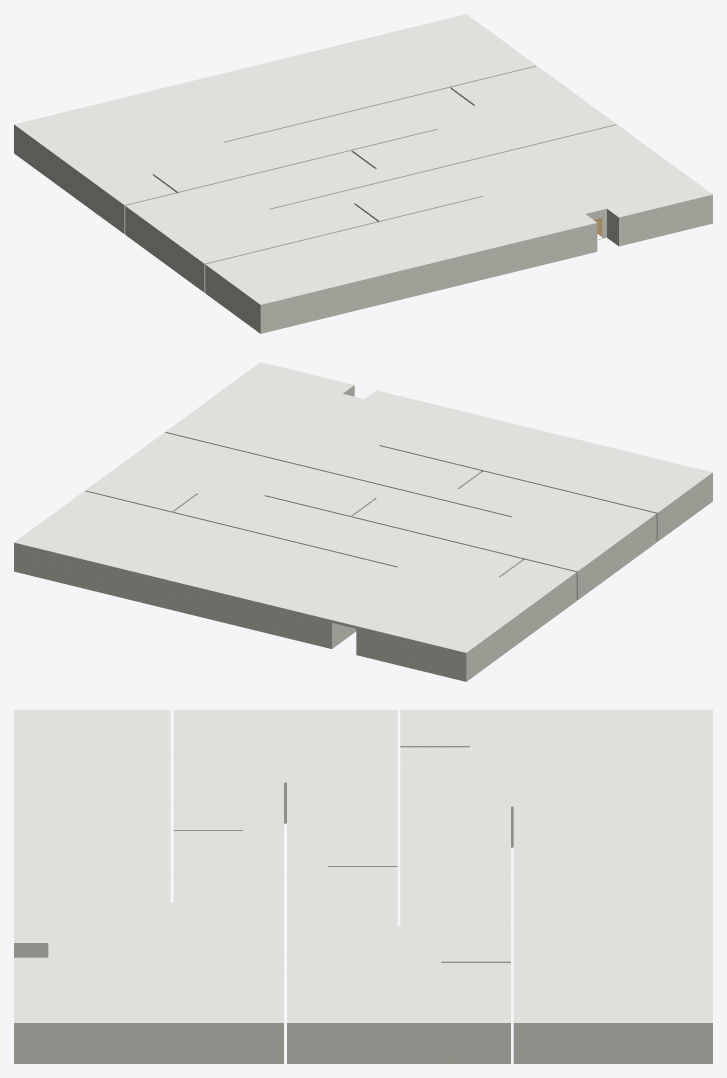
The model's file is gbi_L3_4.glb.
3 views of the same model, one above another, from view 1: azimuth 30°, elevation 25°; view 2: azimuth 150°, elevation 25°; view 3: azimuth 270°, elevation 25° (orthographic). The views are drawn at different scales.
Visible parts, largest first — view 1: M_D_ceil_L3, M_D_wall_L3; view 2: M_D_ceil_L3, M_D_wall_L3; view 3: M_D_ceil_L3, M_D_wall_L3.
Part boxes in pixels (bbox=[...]): M_D_ceil_L3: bbox=[14, 14, 712, 304]; M_D_wall_L3: bbox=[14, 65, 712, 333]; M_D_ceil_L3: bbox=[14, 362, 712, 652]; M_D_wall_L3: bbox=[14, 385, 712, 681]; M_D_ceil_L3: bbox=[14, 710, 712, 1022]; M_D_wall_L3: bbox=[14, 746, 712, 1063].
Bounding box in the file's own units: 52.2 × 3.2 × 49.3.
Materials: 12 (7 with a texture image).
